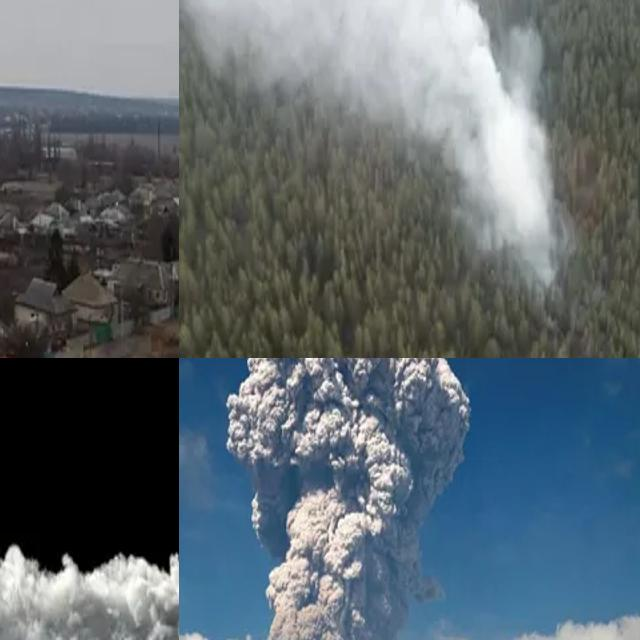smoke: (179, 0, 581, 281), (226, 358, 468, 640), (0, 517, 179, 640)
